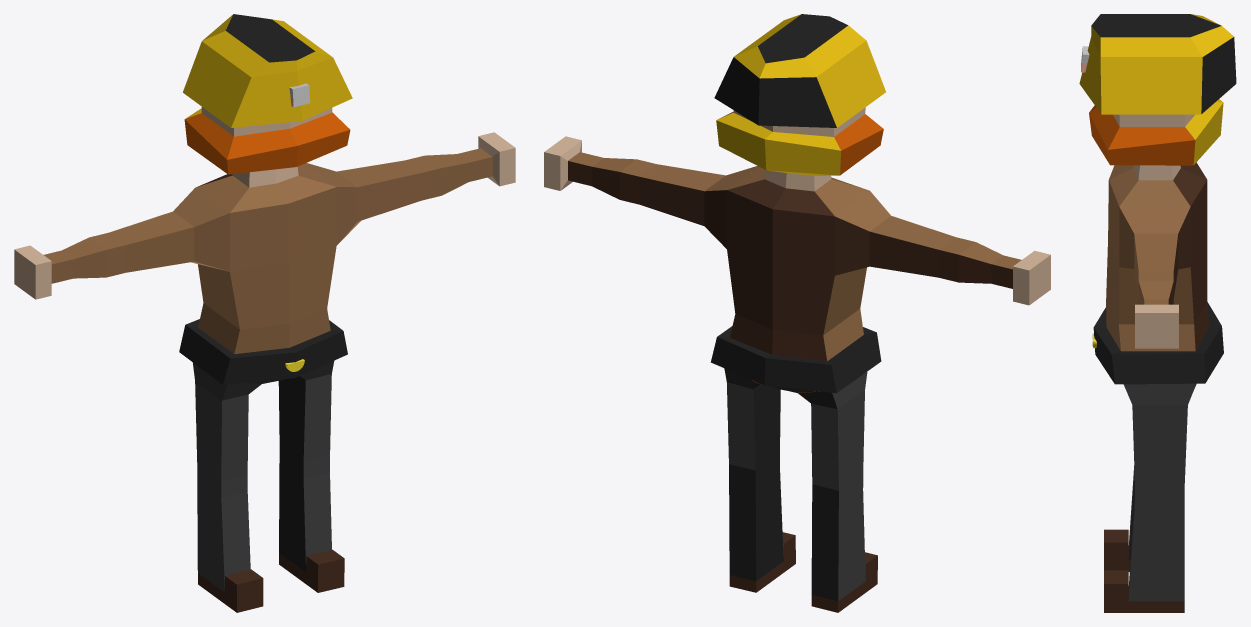
The model's file is Chara2.fbx.
3 views of the same model, side by side, from view 1: azimuth 30°, elevation 25°; view 2: azimuth 150°, elevation 25°; view 3: azimuth 270°, elevation 25° (orthographic). The views are drawn at different scales.
Visible parts, largest first — view 1: Chara 1.001; view 2: Chara 1.001; view 3: Chara 1.001.
Part boxes in pixels (x1=…): Chara 1.001: x1=14, y1=14, x2=515, y2=612; Chara 1.001: x1=544, y1=14, x2=1050, y2=612; Chara 1.001: x1=1079, y1=14, x2=1236, y2=612.
Size of the model in its own units: 141 by 153 by 38.91.
